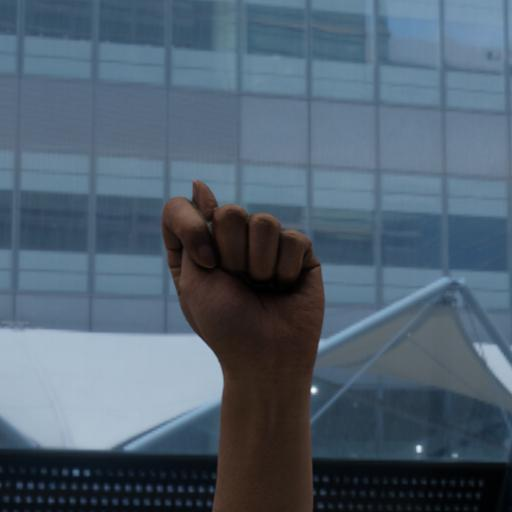T: (139, 161, 346, 512)
